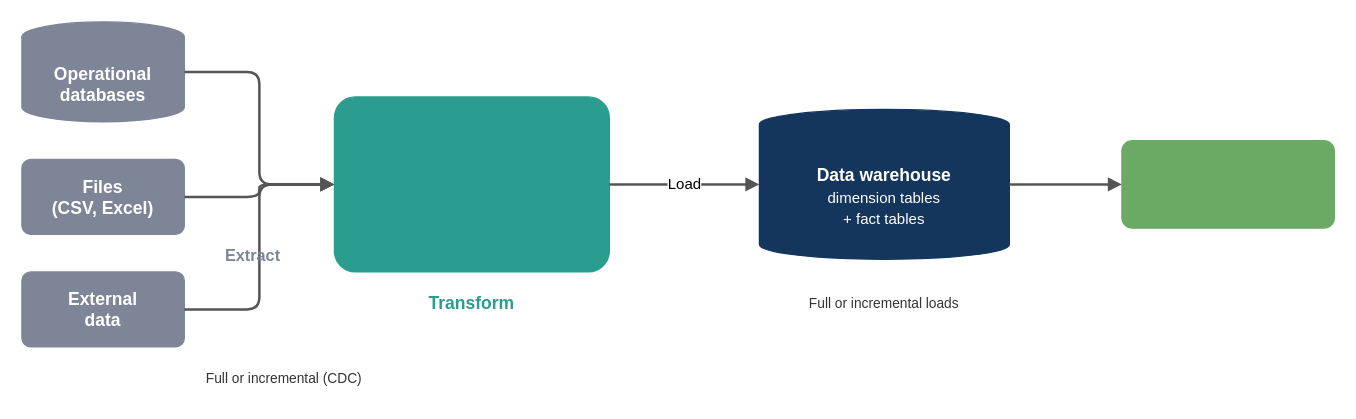
Image size: 1356x419. Some labels were removed from this diagram. The shapes that lost their labels are listed below. From the top down, each one's centre as x and y in pixels, then its label:
At pixel 471 184: "Staging area clean, standardize, integrate, generate surrogate keys, log errors".
At pixel 1227 183: "Reports, dashboards, analytics".
